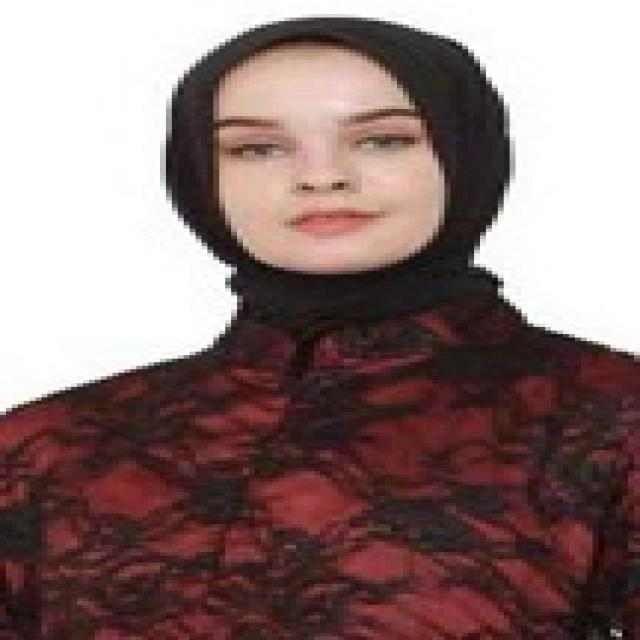head: (168, 23, 508, 290)
